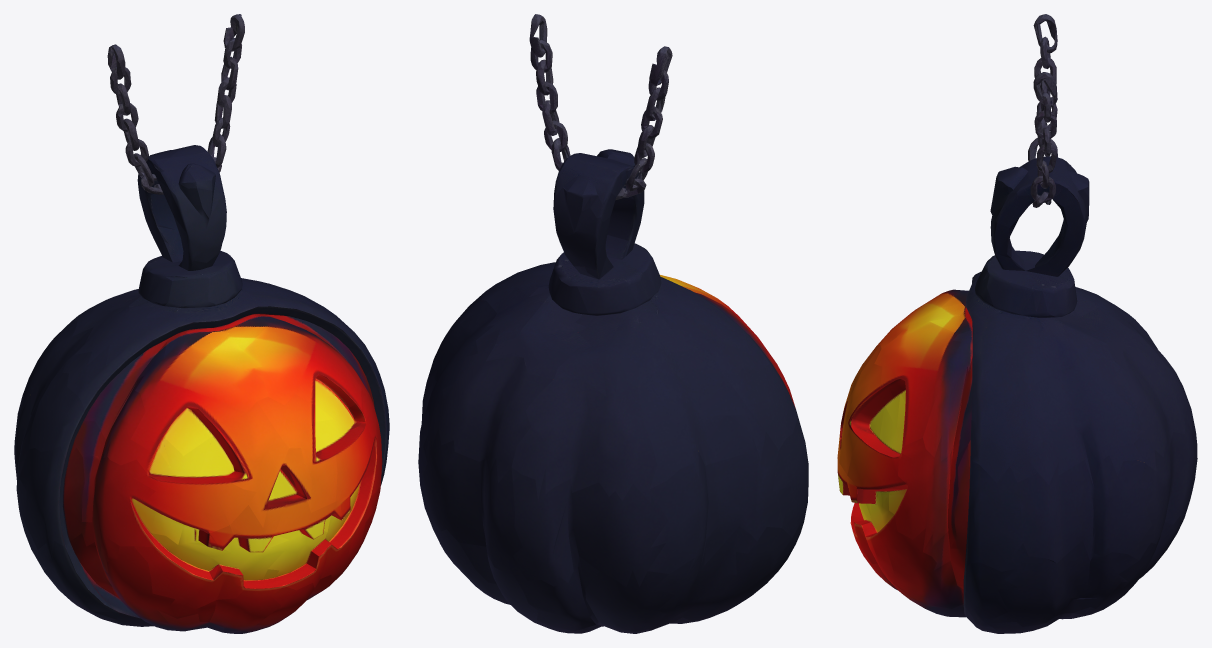
The model's file is hw-pendant.glb.
The picture shows the model from 3 angles, left to right: view 1: azimuth 30°, elevation 25°; view 2: azimuth 150°, elevation 25°; view 3: azimuth 270°, elevation 25°; orthographic projection. The views are drawn at different scales.
Size of the model in its own units: 1.22 by 1.9 by 1.12.
1 material, 1 textured.
